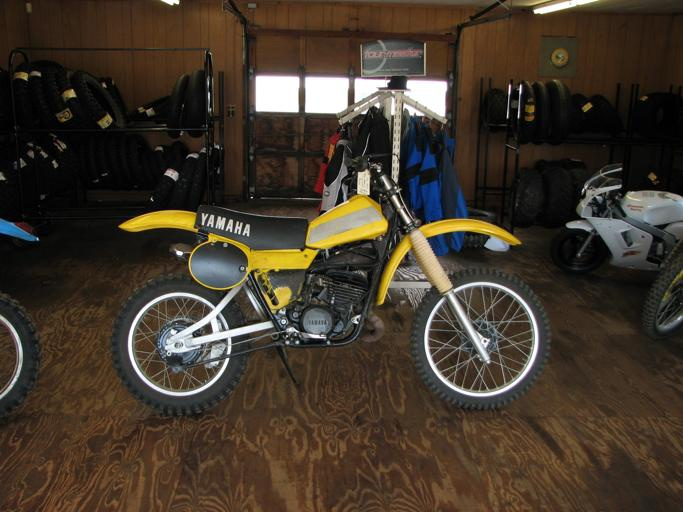non-vehicle: (106, 108, 550, 418), (553, 160, 681, 276), (0, 211, 48, 421), (641, 239, 682, 341)
